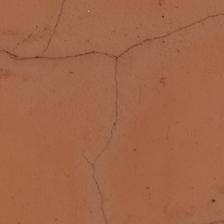Crack: (38, 78, 151, 135), (0, 22, 145, 48), (47, 78, 99, 133), (166, 100, 204, 130)
